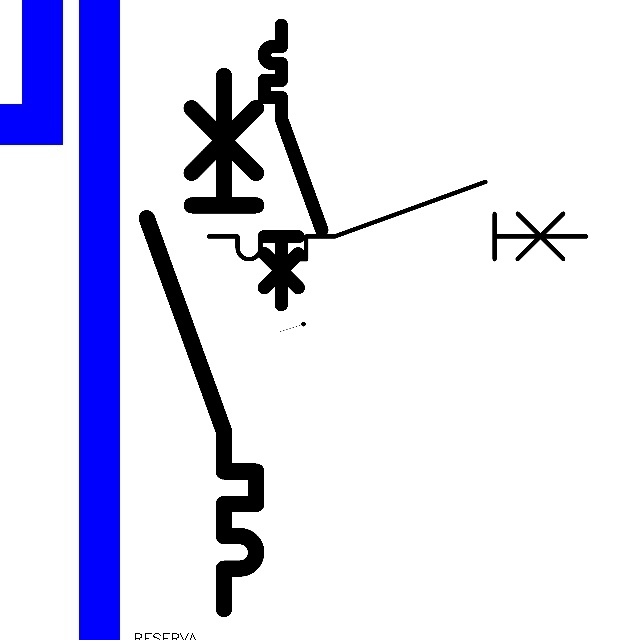interruptor_termomagnetico: (133, 62, 270, 623), (199, 172, 596, 269), (257, 18, 329, 312)
